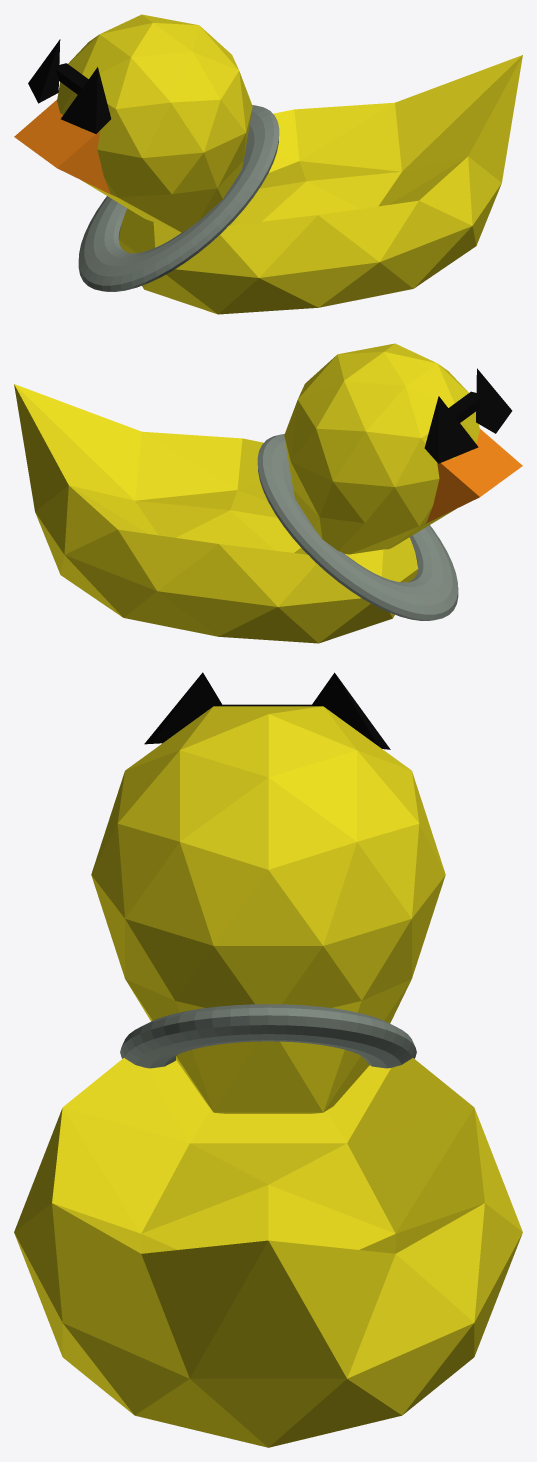
Rendered from duck.fbx.
The picture shows the model from 3 angles, top to bottom: view 1: azimuth 30°, elevation 25°; view 2: azimuth 150°, elevation 25°; view 3: azimuth 270°, elevation 25°; orthographic projection. The views are drawn at different scales.
Parts seen in each view (by area): view 1: Icosphere, Icosphere.001, Torus, Cube, Cube.002, Cube.001, Cube.003; view 2: Icosphere, Icosphere.001, Torus, Cube, Cube.001, Cube.002, Cube.003; view 3: Icosphere, Icosphere.001, Torus, Cube.002, Cube.001.
Part boxes in pixels (x1,y1,x2,y2): Icosphere: (118, 55, 522, 314); Icosphere.001: (57, 14, 252, 232); Torus: (78, 105, 279, 291); Cube: (14, 99, 114, 196); Cube.002: (61, 67, 111, 133); Cube.001: (28, 39, 60, 103); Cube.003: (55, 63, 88, 94); Icosphere: (14, 384, 418, 643); Icosphere.001: (284, 343, 479, 554); Torus: (257, 434, 458, 620); Cube: (422, 428, 522, 525); Cube.001: (424, 396, 478, 463); Cube.002: (476, 368, 512, 433); Cube.003: (448, 391, 481, 422); Icosphere: (14, 1058, 522, 1447); Icosphere.001: (91, 706, 445, 1113); Torus: (120, 1004, 416, 1068); Cube.002: (144, 672, 222, 744); Cube.001: (311, 672, 390, 749).
Size of the model in its own units: 552 by 294 by 287.
